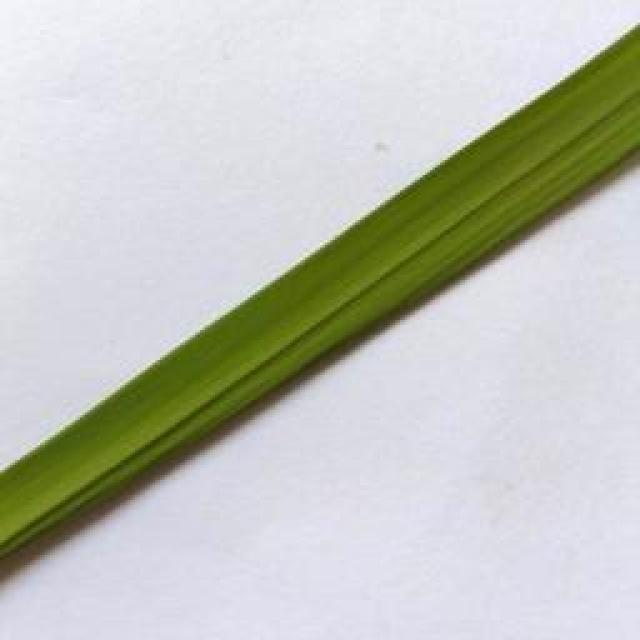Healthy-Plant: (0, 25, 640, 564)
